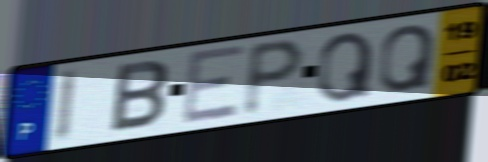B: (107, 57, 172, 136)
E: (180, 42, 248, 129)
I: (52, 66, 81, 146)
P: (239, 36, 309, 120)
Q: (376, 22, 439, 96), (316, 29, 377, 105)
